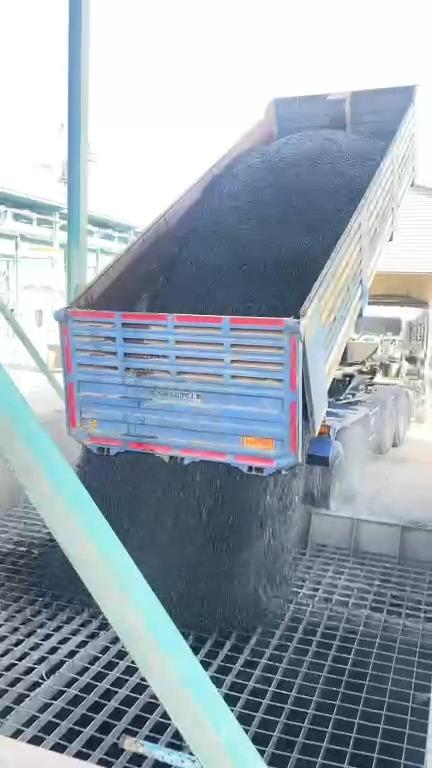gravel: (150, 130, 383, 316), (148, 131, 383, 315), (78, 450, 302, 630), (78, 450, 300, 631), (39, 547, 90, 603), (43, 549, 82, 597)
